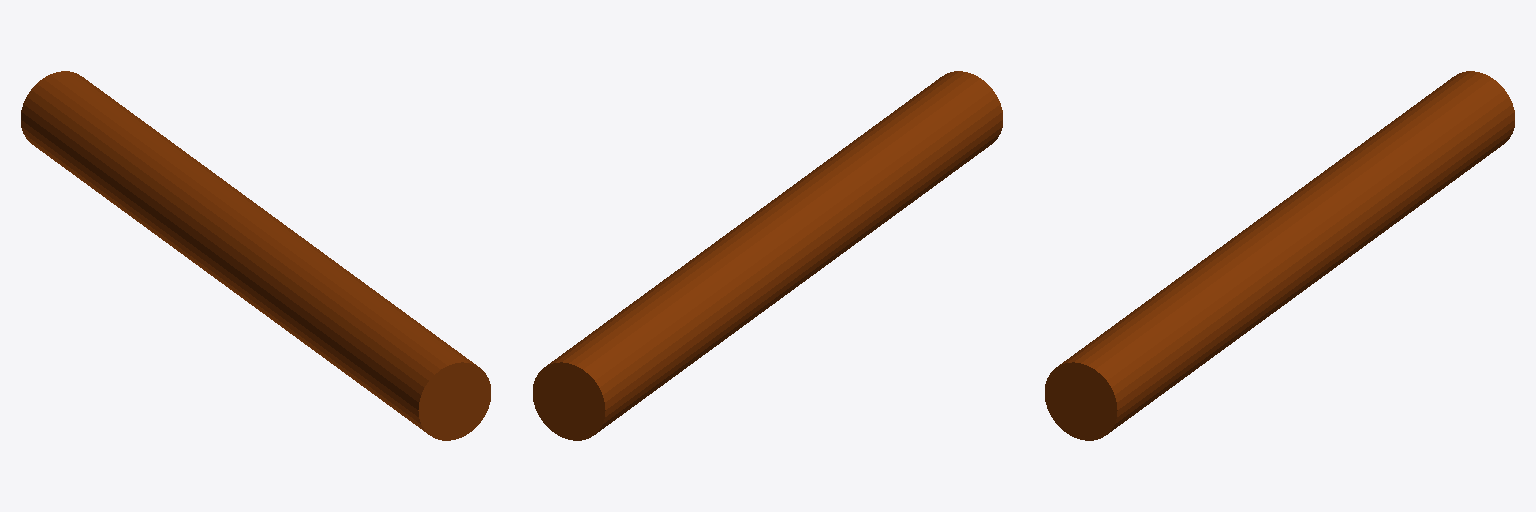
robot.urdf — cylinder:
<?xml version="1.0" ?>
<!-- =================================================================================== -->
<!-- |    This document was autogenerated by xacro from cylinder.xacro                 | -->
<!-- |    EDITING THIS FILE BY HAND IS NOT RECOMMENDED                                 | -->
<!-- =================================================================================== -->
<robot name="cylinder">
  <link name="world"/>
  <link name="base">
    <visual>
      <origin rpy="1.57079633 0 0" xyz="0 0 0"/>
      <geometry>
        <cylinder length="7.07106781185" radius="0.375"/>
      </geometry>
      <material name="cylinder_material">
        <color rgba="0.545 0.271 0.075 1.0"/>
        <texture filename="../textures/tree_bark.jpg"/>
      </material>
    </visual>
    <collision>
      <origin rpy="1.57079633 0 0" xyz="0 0 0"/>
      <geometry>
        <cylinder length="7.07106781185" radius="0.375"/>
      </geometry>
    </collision>
    <inertial>
      <origin rpy="0 0 0" xyz="0 0 0"/>
      <mass value="1"/>
      <inertia ixx="4.201822916648428" ixy="0.0" ixz="0.0" iyy="4.201822916648428" iyz="0.0" izz="24.999999999890573"/>
    </inertial>
  </link>
  <joint name="base_joint" type="fixed">
    <parent link="world"/>
    <child link="base"/>
    <origin rpy="0 0 0" xyz="0.0 0.0 0.0"/>
  </joint>
</robot>

--- Facts derived from the render (not from the file) ---
Views: 3 orthographic renders of the robot side by side, from view 1: azimuth 30°, elevation 25°; view 2: azimuth 150°, elevation 25°; view 3: azimuth 330°, elevation 25°.
Robot: cylinder — 2 links, 1 joints (1 fixed); root link world; default pose: every joint at zero.
Visible links, largest first — view 1: base; view 2: base; view 3: base.
Boxes of the visible links, x1,y1,x2,y2 form: base: [21, 71, 490, 440]; base: [533, 71, 1002, 440]; base: [1045, 71, 1514, 440].
Bounding box of the posed robot: 0.75 × 7.07 × 0.75 m (x, y, z).
Geometry: primitives only (box / cylinder / sphere), no mesh files.
